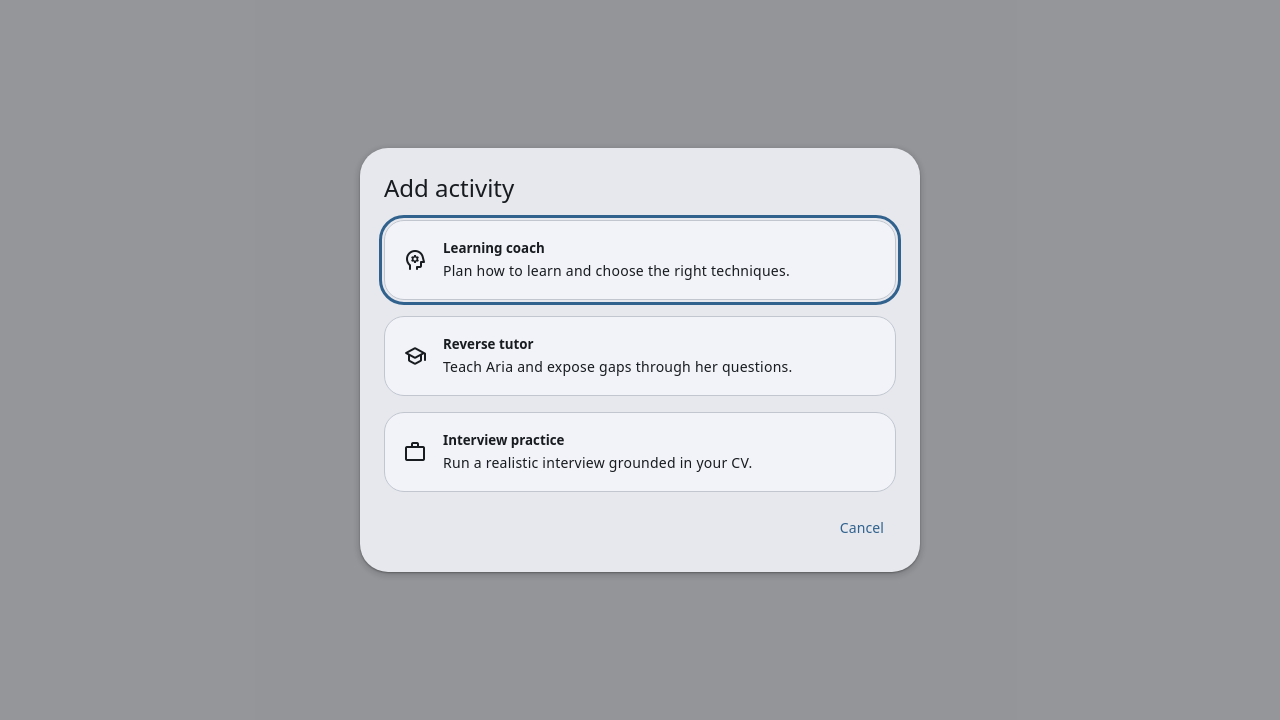
Test: AddActivityDialog › shows creation errors and preserves the dialog for retry
This screenshot has width=1280, height=720.
Click the button "Learning coach".
click(640, 260)  # box top-left (384, 220), bottom-right (896, 300)
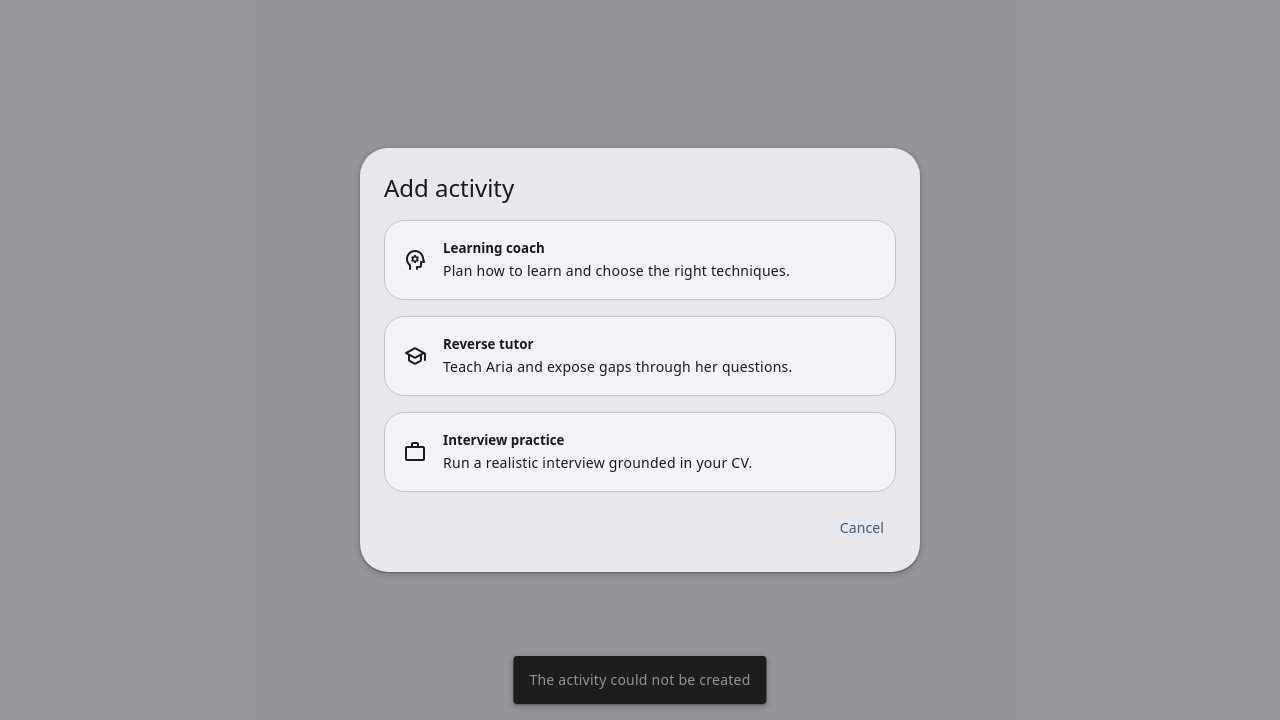
expect the heading "Add activity" is shown: met, box top-left (384, 171), bottom-right (514, 204)
expect the message reads "The activity could not be created": met, box top-left (529, 670), bottom-right (751, 689)
